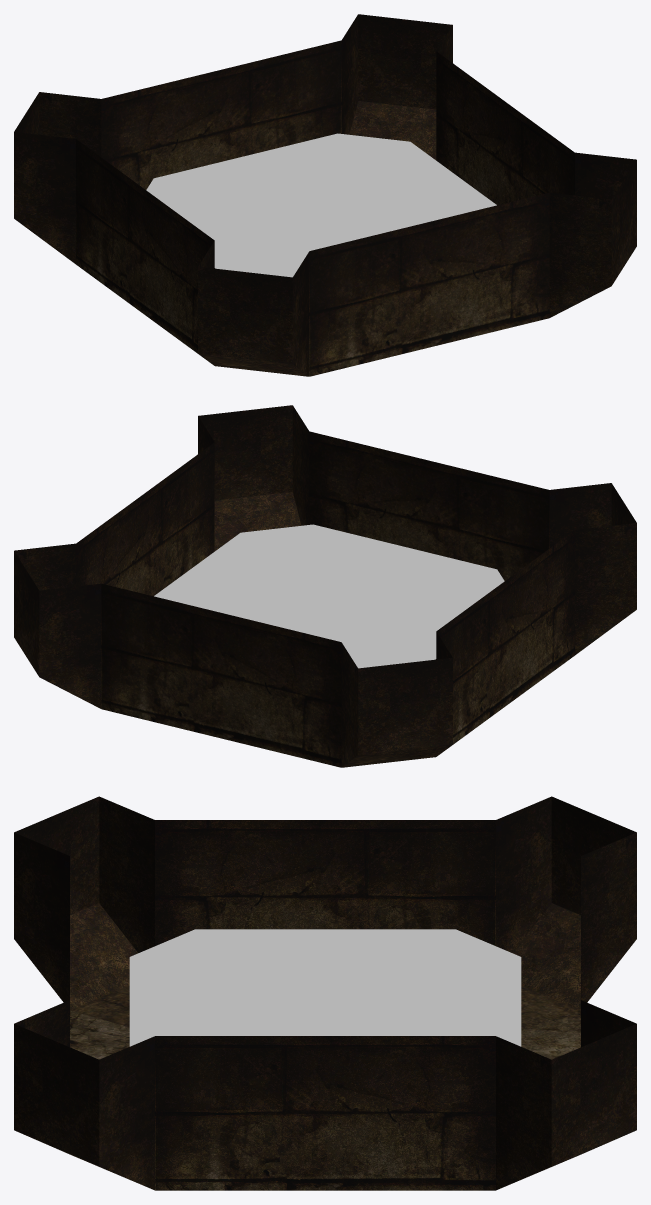
The model's file is window_worn.dae.
3 renders of one model, top to bottom at view 1: azimuth 30°, elevation 25°; view 2: azimuth 150°, elevation 25°; view 3: azimuth 270°, elevation 25°, orthographic. The views are drawn at different scales.
Visible parts, largest first — view 1: polySurface4, polySurface5; view 2: polySurface4, polySurface5; view 3: polySurface4, polySurface5.
Part boxes in pixels (x1,y1,x2,y2): polySurface4: (14,14,636,376); polySurface5: (146,133,496,277); polySurface4: (14,405,636,767); polySurface5: (154,524,504,668); polySurface4: (14,796,636,1190); polySurface5: (129,929,521,1046).
Bounding box in the file's own units: 3.66 × 1 × 3.66.
